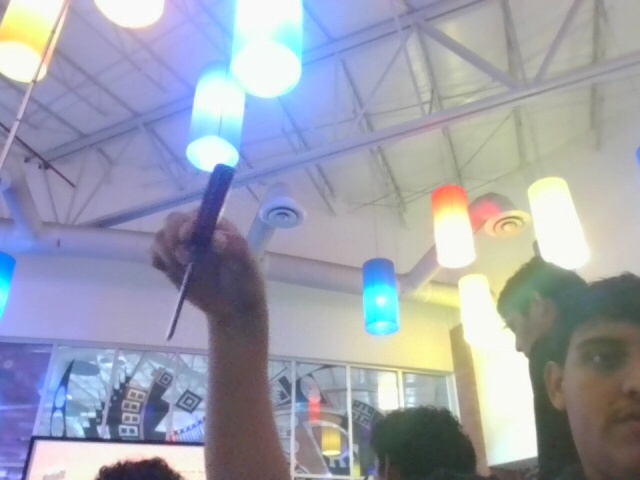destornillador: (166, 163, 235, 340)
